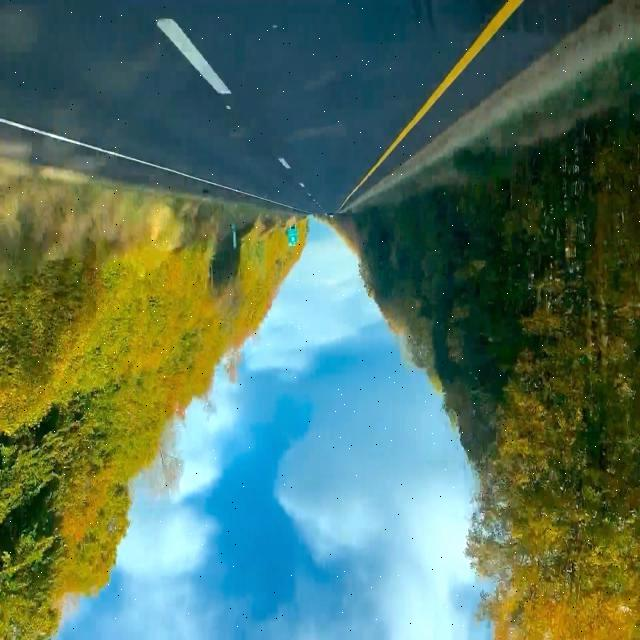lane: (345, 1, 524, 204), (3, 118, 291, 208), (158, 18, 231, 94)
road: (1, 1, 502, 214)
